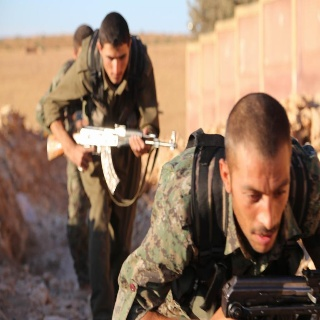rifle: (46, 120, 181, 198)
